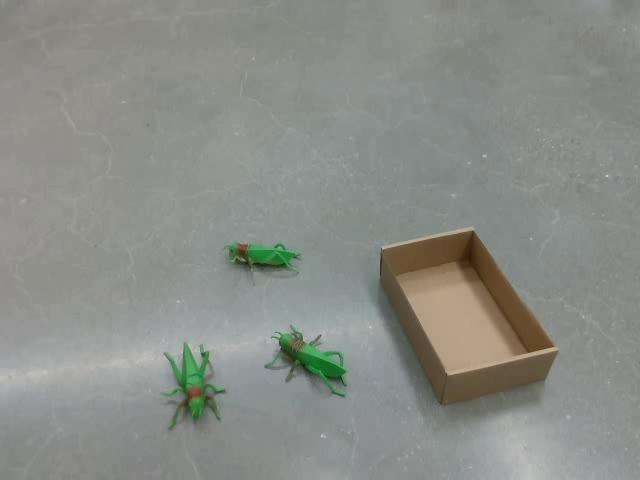box: (378, 226, 559, 405)
grasshopper: (264, 323, 348, 397), (159, 341, 226, 430), (223, 240, 301, 272)
